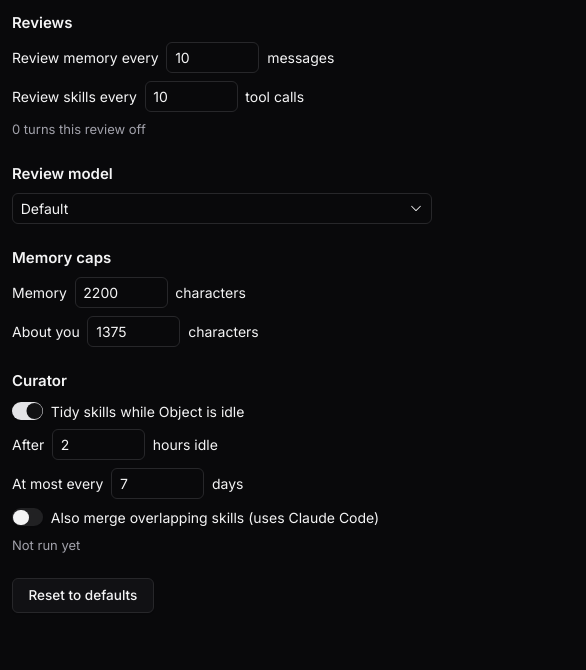
Test: LearningTab › test a switch saves and a 409 reloads with the Profile text
Click the switch named "Also merge overlapping skills (uses Claude Code)" at (28, 517), box [12, 508, 43, 526]
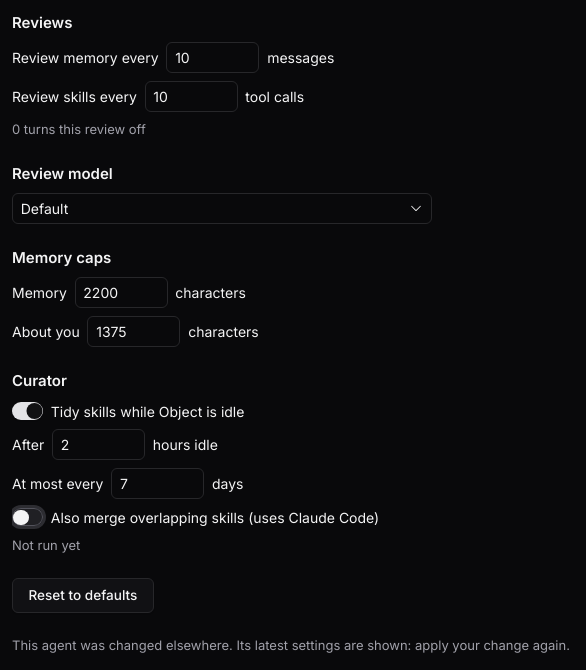
Expected: the message shows "This agent was changed elsewhere. Its latest settings are shown: apply your change again.", [12, 637, 570, 653]
